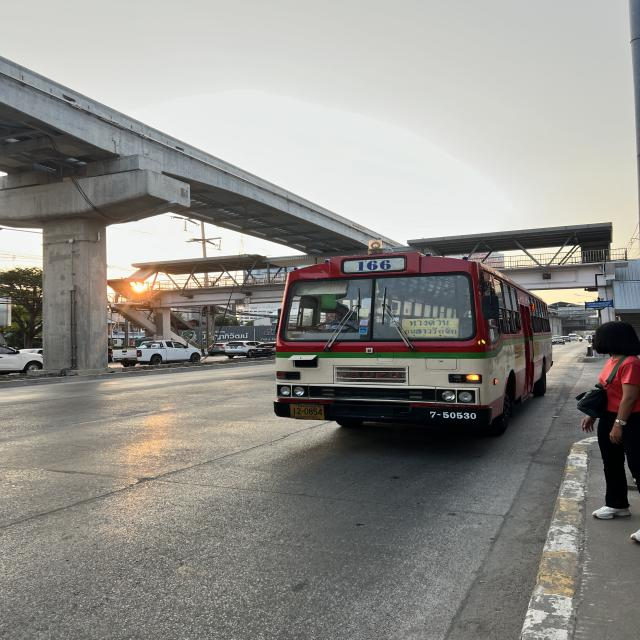BMTA-bus: (273, 248, 553, 438)
Bus Line Number: (348, 257, 400, 275)
Bus Side Number: (424, 410, 480, 420)
Destination Sign: (401, 318, 462, 339)
